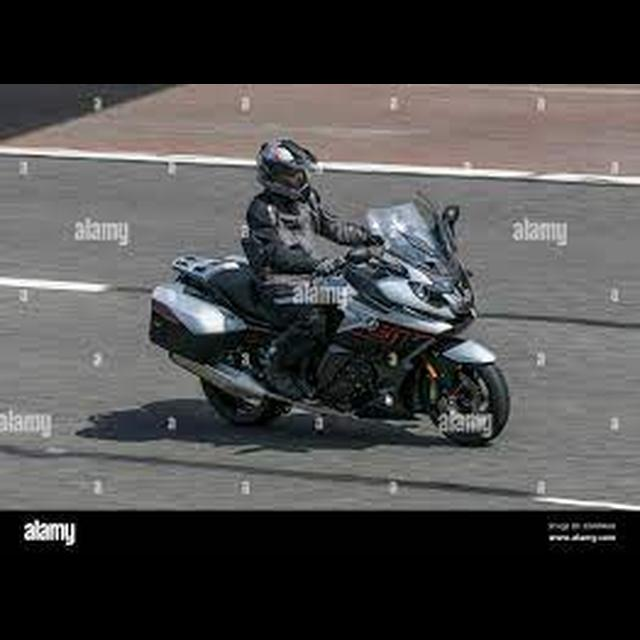motorcycle: (149, 195, 514, 451)
